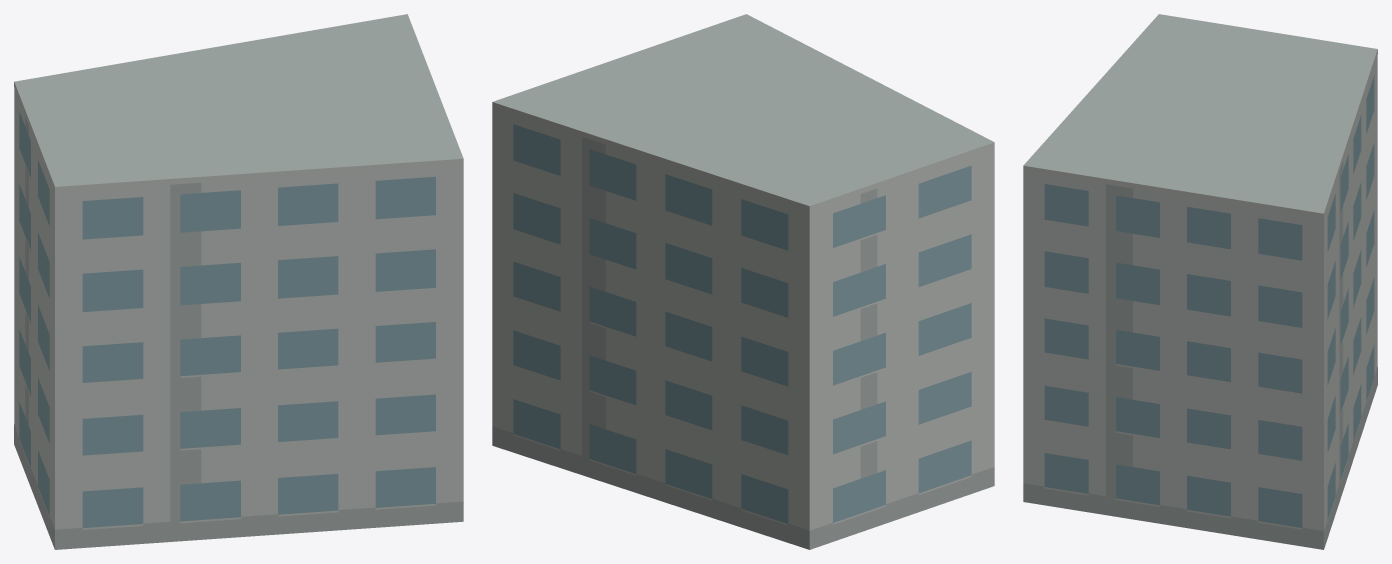
The model's file is residential-615ca9d1-fc98-4cf4-97c9-6b5fb0d7398a.glb.
3 views of the same model, side by side, from view 1: azimuth 30°, elevation 25°; view 2: azimuth 150°, elevation 25°; view 3: azimuth 270°, elevation 25° (orthographic). The views are drawn at different scales.
Parts seen in each view (by area): view 1: residential-615ca9d1-fc98-4cf4-97c9-6b5fb0d7398a.tmp; view 2: residential-615ca9d1-fc98-4cf4-97c9-6b5fb0d7398a.tmp; view 3: residential-615ca9d1-fc98-4cf4-97c9-6b5fb0d7398a.tmp.
Part boxes in pixels (<box>): residential-615ca9d1-fc98-4cf4-97c9-6b5fb0d7398a.tmp: <box>14,14,463,549</box>; residential-615ca9d1-fc98-4cf4-97c9-6b5fb0d7398a.tmp: <box>492,14,994,549</box>; residential-615ca9d1-fc98-4cf4-97c9-6b5fb0d7398a.tmp: <box>1023,14,1377,549</box>.
Bounding box in the file's own units: 19.43 × 15.25 × 14.58.
